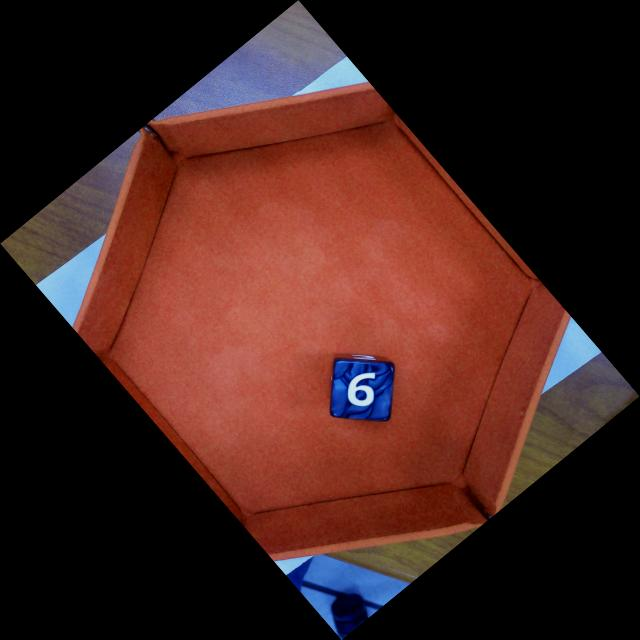dice: (330, 359, 395, 421)
